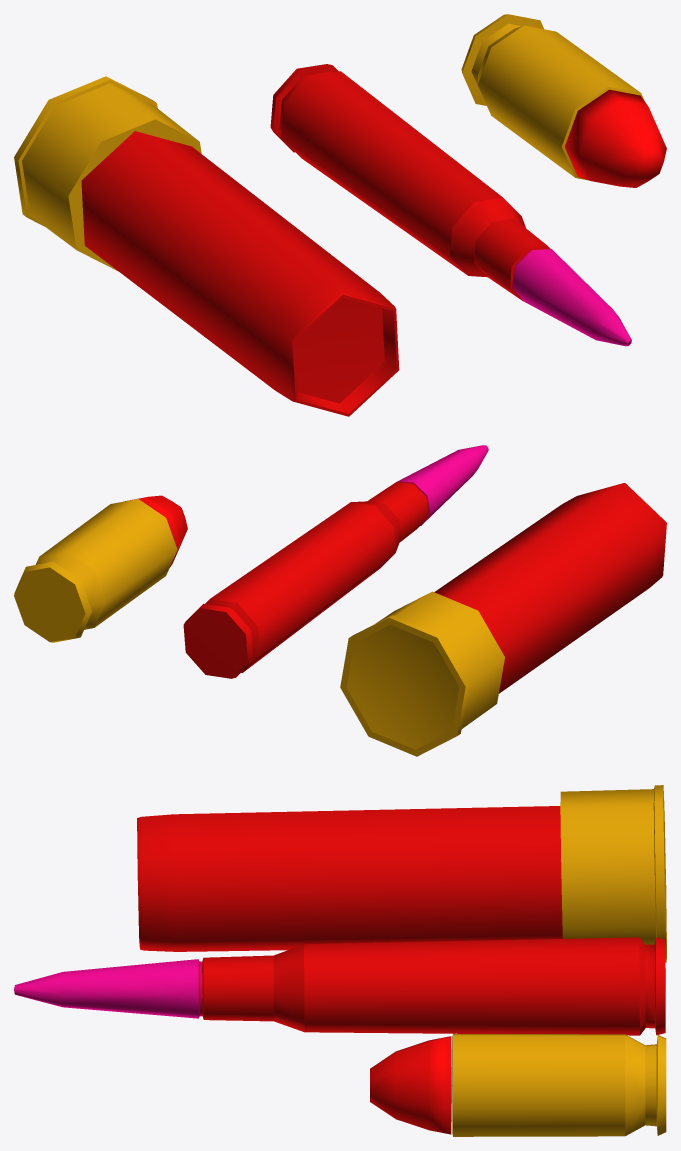
File: single_ammos.fbx
3 renders of one model, top to bottom at view 1: azimuth 30°, elevation 25°; view 2: azimuth 150°, elevation 25°; view 3: azimuth 270°, elevation 25°, orthographic. The views are drawn at different scales.
Visible parts, largest first — view 1: shotgun_ammo.001, rifle_ammo1, pistol_ammo1; view 2: shotgun_ammo.001, rifle_ammo1, pistol_ammo1; view 3: shotgun_ammo.001, rifle_ammo1, pistol_ammo1.
Part boxes in pixels (box(x1,y1,x2,y2)): shotgun_ammo.001: box(14, 76, 399, 416); rifle_ammo1: box(270, 64, 631, 346); pistol_ammo1: box(461, 14, 666, 187); shotgun_ammo.001: box(340, 483, 666, 756); rifle_ammo1: box(183, 445, 488, 678); pistol_ammo1: box(14, 495, 187, 642); shotgun_ammo.001: box(137, 785, 666, 962); rifle_ammo1: box(14, 937, 665, 1035); pistol_ammo1: box(370, 1033, 666, 1136).
Bounding box in the file's own units: 6.89 × 1.9 × 7.11.
